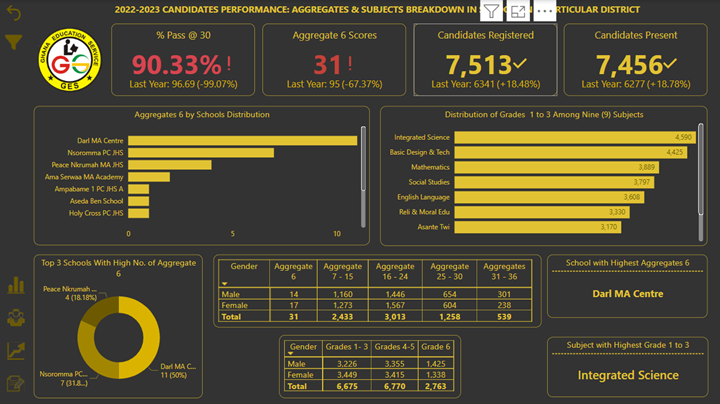

What the dashboard file says about the page in this screenshot:
{"tool":"powerbi","page":{"name":"Main Dashboard","canvas":[1280,720],"ordinal":0},"visuals":[{"type":"textbox","box":[190.1,0,962.9,42.8],"z":0},{"type":"actionButton","box":[6.9,487.2,44.8,39],"z":0,"group":"g1"},{"type":"shape","title":"Left Nav Background","box":[0,0,44.5,720.7],"z":1000},{"type":"actionButton","box":[6.9,545.4,44.8,39],"z":1000,"group":"g1"},{"type":"barChart","title":"Distribution of Grades  1 to 3 Among Nine (9) Subjects","fields":{"Y":["DAX Measures.Candidates Obtaining Grades 1- 3"],"Category":["subjects.subject"]},"box":[677.1,188.5,581.1,247.8],"z":2000},{"type":"actionButton","box":[6.9,603.5,44.8,39],"z":2000,"group":"g1"},{"type":"pivotTable","title":"Aggregates from 6 - 42","fields":{"Rows":["students.gender"],"Values":["DAX Measures.Aggregates 6","DAX Measures.Aggregates 7 - 15","DAX Measures.Aggregates 16 - 24","DAX Measures.Aggregates 25 - 30","DAX Measures.Aggregates 31 - 36"]},"box":[380.4,452,582.8,129.1],"z":3000},{"type":"actionButton","box":[6.9,661.7,44.5,39.1],"z":3000,"group":"g1"},{"type":"clusteredBarChart","title":"Aggregates 6 by Schools Distribution","fields":{"Category":["schools.school_name"],"Y":["DAX Measures.Aggregates 6"]},"box":[61.8,188.5,597.1,247.1],"z":4000},{"type":"donutChart","title":"Top 3 Schools With High No. of Aggregate 6","fields":{"Y":["DAX Measures.Aggregates 6"],"Series":["schools.school_name"]},"box":[61.1,452,300.1,254.8],"z":5000},{"type":"card","title":"School with Highest Aggregates 6","fields":{"Values":["schools.School Name"]},"box":[974,451.4,285.1,112.4],"z":6000},{"type":"card","title":"Subject with Highest Grade 1 to 3","fields":{"Values":["subjects.Subject Name"]},"box":[973.7,598.5,286.2,106.4],"z":7000},{"type":"pivotTable","title":"Aggregates from 6 - 42","fields":{"Rows":["students.gender"],"Values":["DAX Measures.Candidates Obtaining Grades 1- 3","DAX Measures.Candidates Obtaining Grades 4-5","DAX Measures.Candidates Obtaining Grade 6"]},"box":[497.3,595,322.8,111.7],"z":8000},{"type":"kpi","title":"% Pass @ 30","fields":{"TrendLine":["Calendar.Year"],"Indicator":["DAX Measures.% Pass @ 30"],"Goal":["DAX Measures.Previous % Pass"]},"box":[199.6,42,255,128.3],"z":9000},{"type":"kpi","title":"Aggregate 6 Scores","fields":{"TrendLine":["Calendar.Year"],"Indicator":["DAX Measures.Aggregates 6"],"Goal":["DAX Measures.Previous Year Aggregate 6 Count"]},"box":[467.7,42,255,128.3],"z":10000},{"type":"kpi","title":"Candidates Registered","fields":{"TrendLine":["Calendar.Year"],"Indicator":["DAX Measures.Candidates Registered"],"Goal":["DAX Measures.Previous Year Candidates registered"]},"box":[735.9,42,255,128.3],"z":11000},{"type":"kpi","title":"Candidates Present","fields":{"TrendLine":["Calendar.Year"],"Indicator":["DAX Measures.Exams Attendance Count (Prsent)"],"Goal":["DAX Measures.Previous Year Candidate Present"]},"box":[1004.1,42,255,128.3],"z":12000},{"type":"actionButton","box":[3.5,3.5,43.6,38.4],"z":13000},{"type":"actionButton","title":"Exam Year filter","box":[3.5,55.8,43.6,38.4],"z":14000},{"type":"group","id":"g1","title":"Navigation Buttons","box":[6.9,487.2,44.8,213.7],"z":15000},{"type":"image","box":[61.1,41.9,129.1,129.1],"z":15500}]}

Visuals, with their boxes in screenshot pixels (x1, y1, x2, y2), scaled from the page's 1280x720 canvas onto the 720x404 screenshot:
textbox: locate(107, 0, 649, 24)
actionButton: locate(4, 273, 29, 295)
"Left Nav Background" shape: locate(0, 0, 25, 403)
actionButton: locate(4, 306, 29, 328)
"Distribution of Grades  1 to 3 Among Nine (9) Subjects" barChart: locate(381, 106, 708, 245)
actionButton: locate(4, 339, 29, 361)
"Aggregates from 6 - 42" pivotTable: locate(214, 254, 542, 326)
actionButton: locate(4, 371, 29, 393)
"Aggregates 6 by Schools Distribution" clusteredBarChart: locate(35, 106, 371, 244)
"Top 3 Schools With High No. of Aggregate 6" donutChart: locate(34, 254, 203, 397)
"School with Highest Aggregates 6" card: locate(548, 253, 708, 316)
"Subject with Highest Grade 1 to 3" card: locate(548, 336, 709, 396)
"Aggregates from 6 - 42" pivotTable: locate(280, 334, 461, 397)
"% Pass @ 30" kpi: locate(112, 24, 256, 96)
"Aggregate 6 Scores" kpi: locate(263, 24, 407, 96)
"Candidates Registered" kpi: locate(414, 24, 557, 96)
"Candidates Present" kpi: locate(565, 24, 708, 96)
actionButton: locate(2, 2, 26, 24)
"Exam Year filter" actionButton: locate(2, 31, 26, 53)
"Navigation Buttons" group: locate(4, 273, 29, 393)
image: locate(34, 24, 107, 96)
